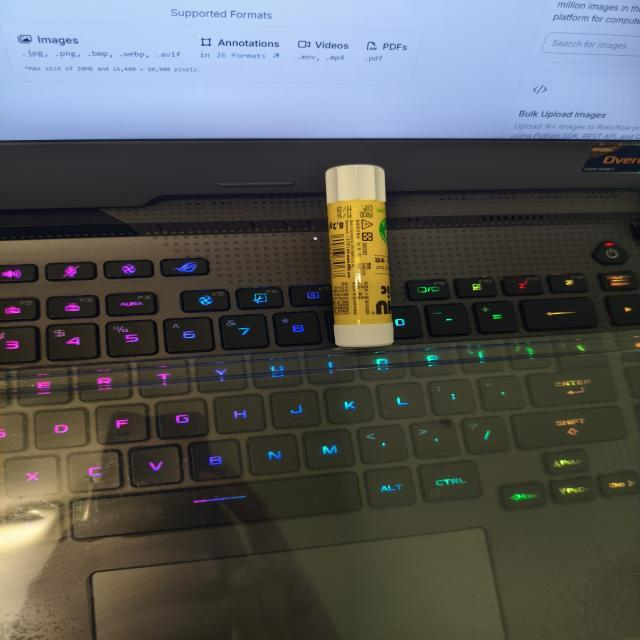glue: (325, 164, 396, 351)
